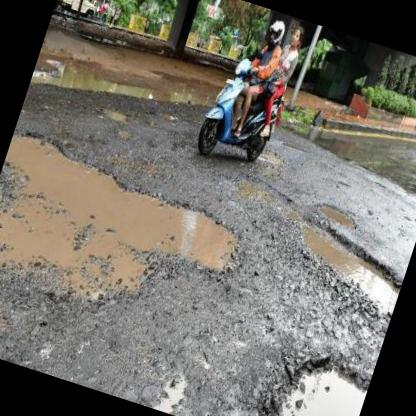pothole: (0, 124, 257, 343), (280, 215, 412, 317), (243, 336, 374, 416), (312, 198, 361, 233)
